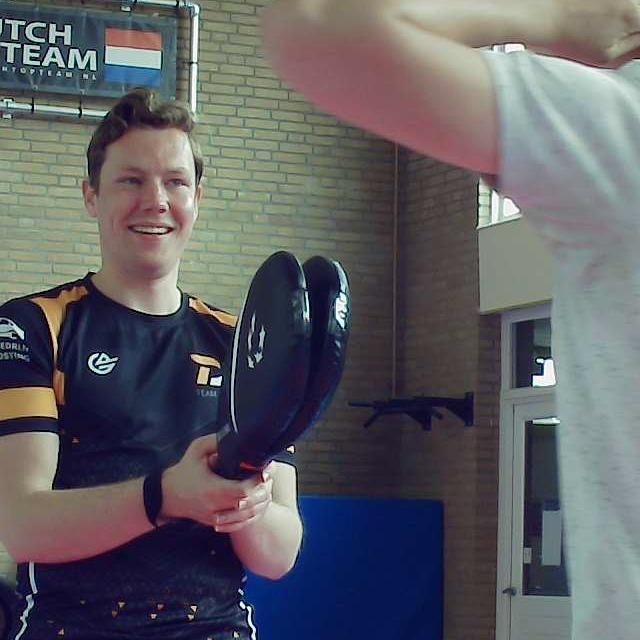paddle: (216, 251, 360, 474)
